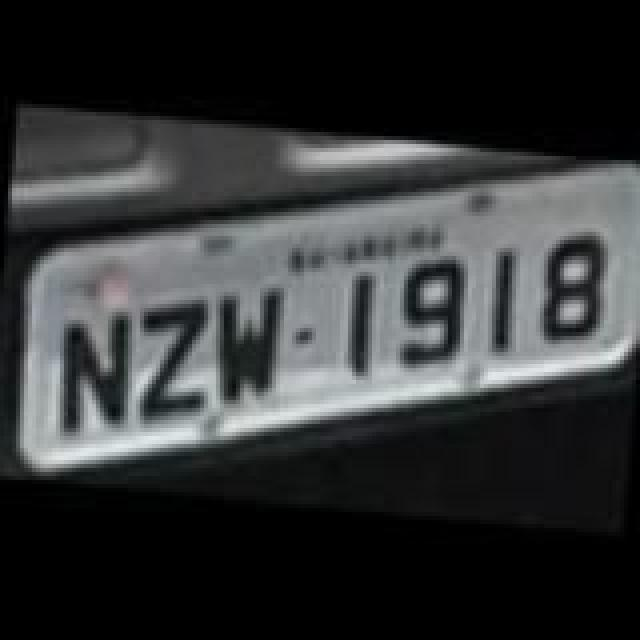1: (338, 266, 382, 378), (484, 240, 524, 348)
8: (538, 226, 614, 350)
9: (392, 250, 472, 374)
N: (54, 306, 138, 438)
W: (208, 282, 288, 406)
Z: (124, 294, 212, 422)
